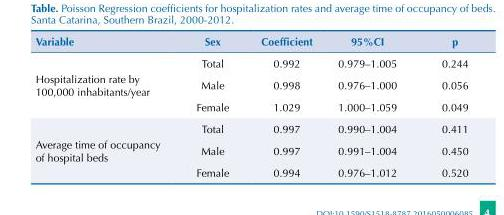table: (34, 34, 467, 178)
table column: (34, 34, 177, 178), (324, 34, 418, 178), (244, 34, 324, 178), (177, 34, 244, 178), (418, 34, 467, 178)
table column header: (34, 34, 467, 52)
table row: (34, 73, 467, 95), (34, 95, 467, 117), (34, 117, 467, 139), (34, 139, 467, 161), (34, 52, 467, 73), (34, 34, 467, 52), (34, 161, 467, 178)
table spanning cell: (34, 52, 177, 117), (34, 117, 177, 178)
